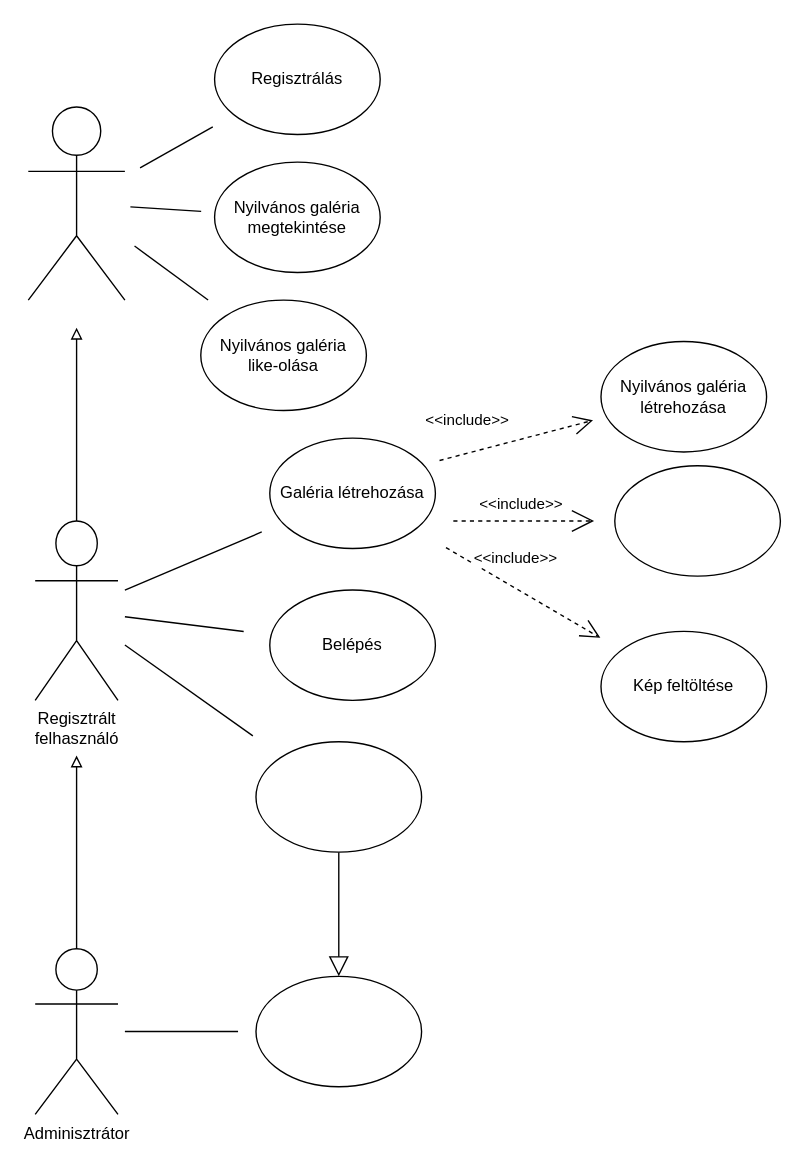
This 805x1167 diagram has some shape labels left out. The shapes that lost their labels are listed below. From the top down, each one's centre as x and y in pixels, then its label:
At point 76,203: "Látogató".
At point 696,520: "Privát galéria létrehozása".
At point 338,796: "Saját galéria törlése".
At point 338,1031: "Galéria törlése".
